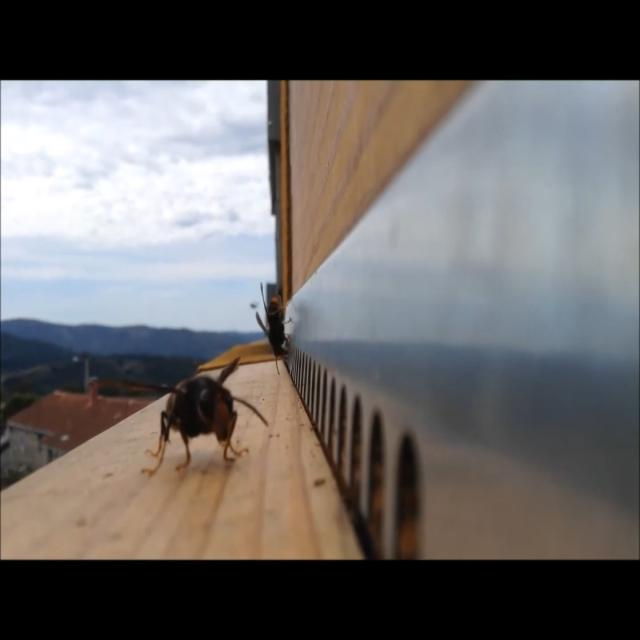Hornets: (91, 358, 272, 475), (251, 281, 293, 376)
